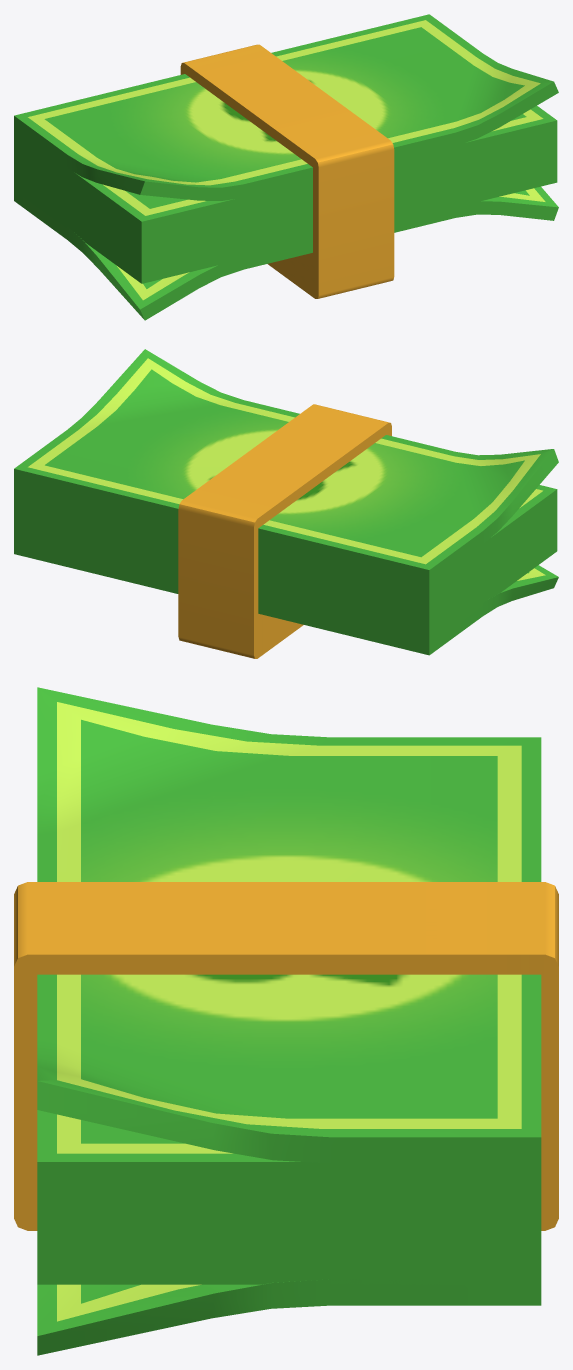
The model's file is MoneyBill_.fbx.
3 views of the same model, one above another, from view 1: azimuth 30°, elevation 25°; view 2: azimuth 150°, elevation 25°; view 3: azimuth 270°, elevation 25° (orthographic). The views are drawn at different scales.
Visible parts, largest first — view 1: MoneyBill_; view 2: MoneyBill_; view 3: MoneyBill_.
Part boxes in pixels (x1=…): MoneyBill_: x1=14, y1=14, x2=558, y2=320; MoneyBill_: x1=14, y1=349, x2=558, y2=658; MoneyBill_: x1=14, y1=687, x2=558, y2=1355.
Size of the model in its own units: 33.06 by 11.83 by 18.88.
Materials: 1 (1 with a texture image).
